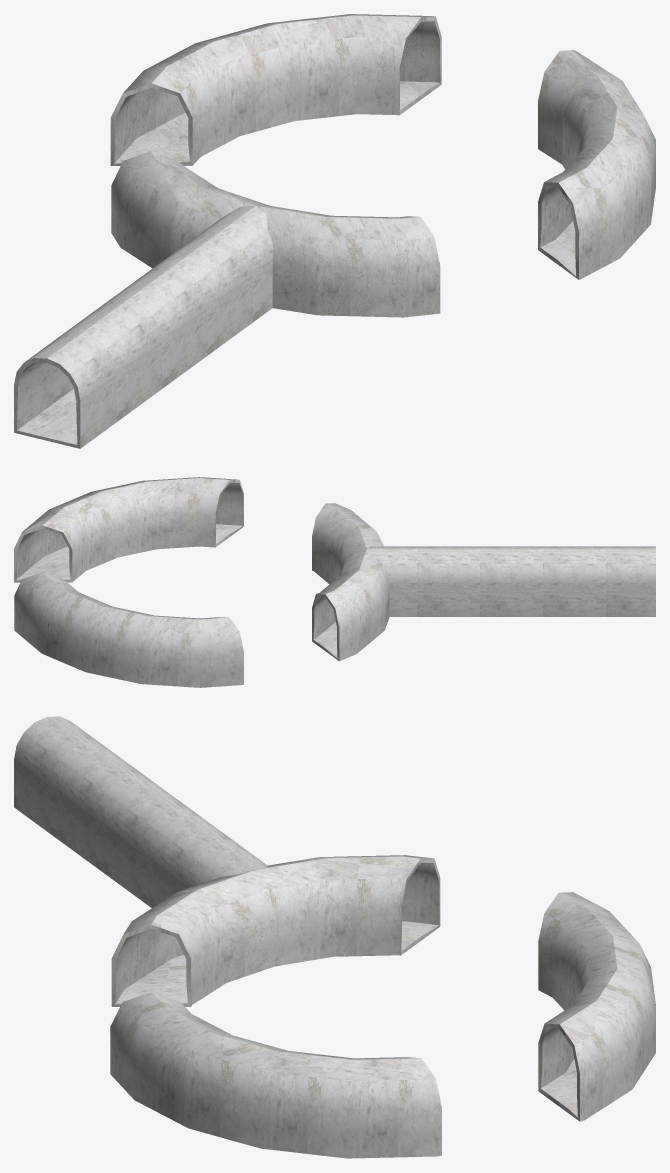
The model's file is suidong1.obj.
The picture shows the model from 3 angles, top to bottom: view 1: azimuth 30°, elevation 25°; view 2: azimuth 150°, elevation 25°; view 3: azimuth 270°, elevation 25°; orthographic projection. The views are drawn at different scales.
Parts seen in each view (by area): view 1: Loft004, Rectangle026; view 2: Loft004, Rectangle026; view 3: Loft004, Rectangle026.
Boxes of the visible parts, x1=… form: Loft004: x1=110, y1=14, x2=655, y2=317; Rectangle026: x1=14, y1=205, x2=272, y2=448; Loft004: x1=14, y1=477, x2=389, y2=687; Rectangle026: x1=367, y1=546, x2=655, y2=616; Loft004: x1=110, y1=855, x2=655, y2=1158; Rectangle026: x1=14, y1=716, x2=267, y2=907.
Bounding box in the file's own units: 36.31 × 3.8 × 26.82.
1 material, 1 textured.
